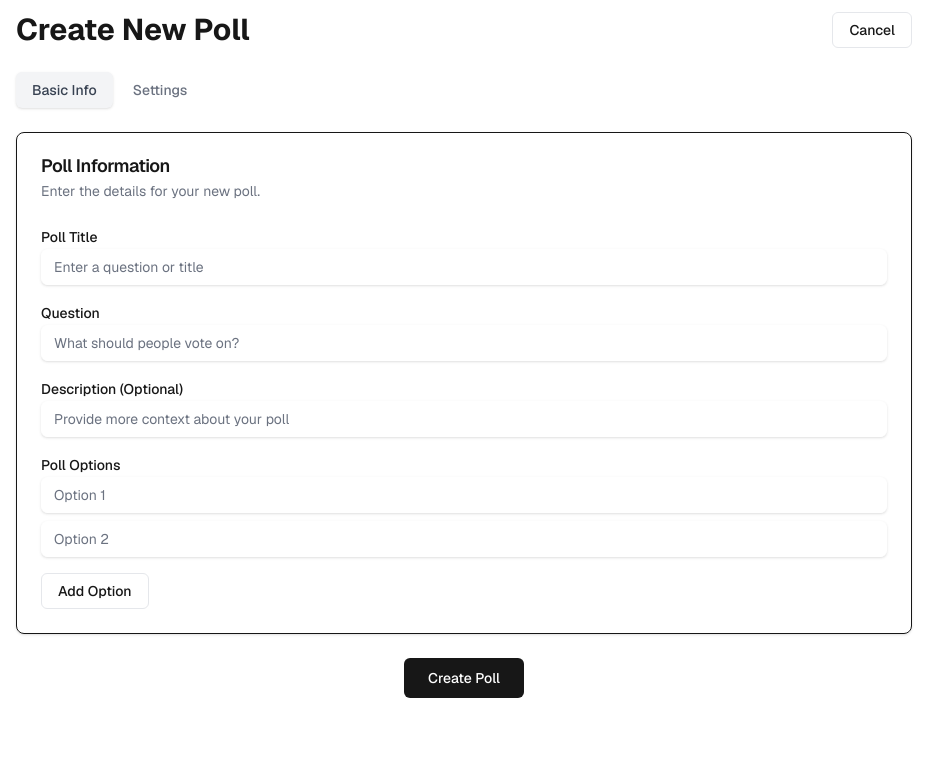
Test case: PollForm › allows removing a poll option when there are more than two
What coordinates should you click on to do the following:
click the button "Add Option"
I would click on:
 (95, 591)
Its box is [41,573,149,609].
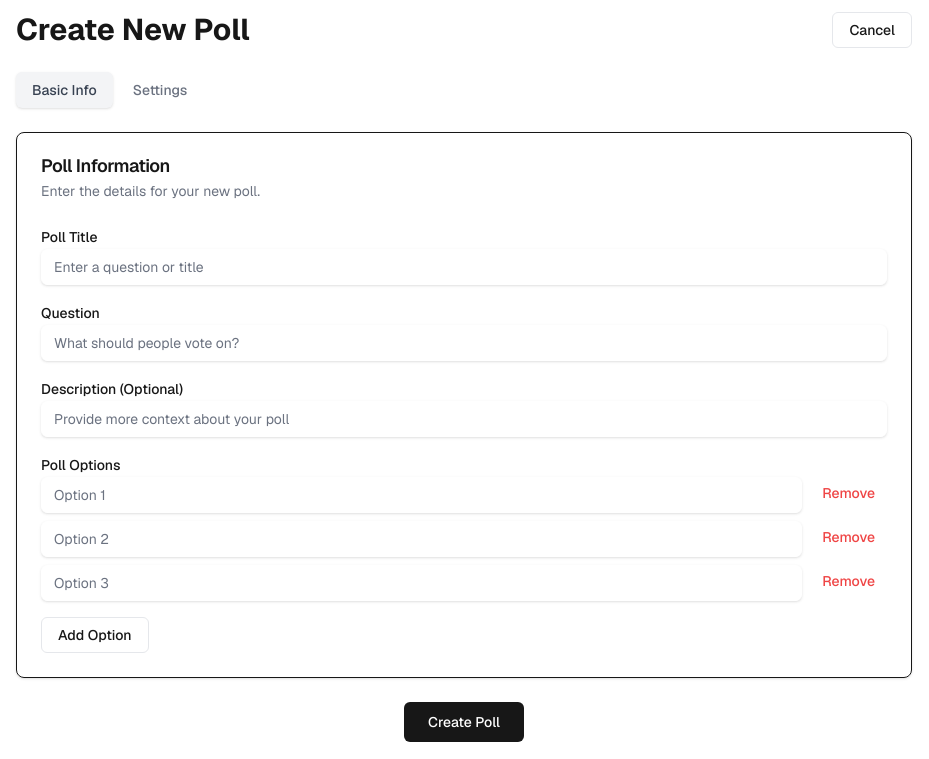
Result: the number of buttons "Remove" is 3
What coordinates should you click on to do the following:
click the 1st button "Remove"
I would click on:
 (849, 493)
Its box is [810,477,887,509].
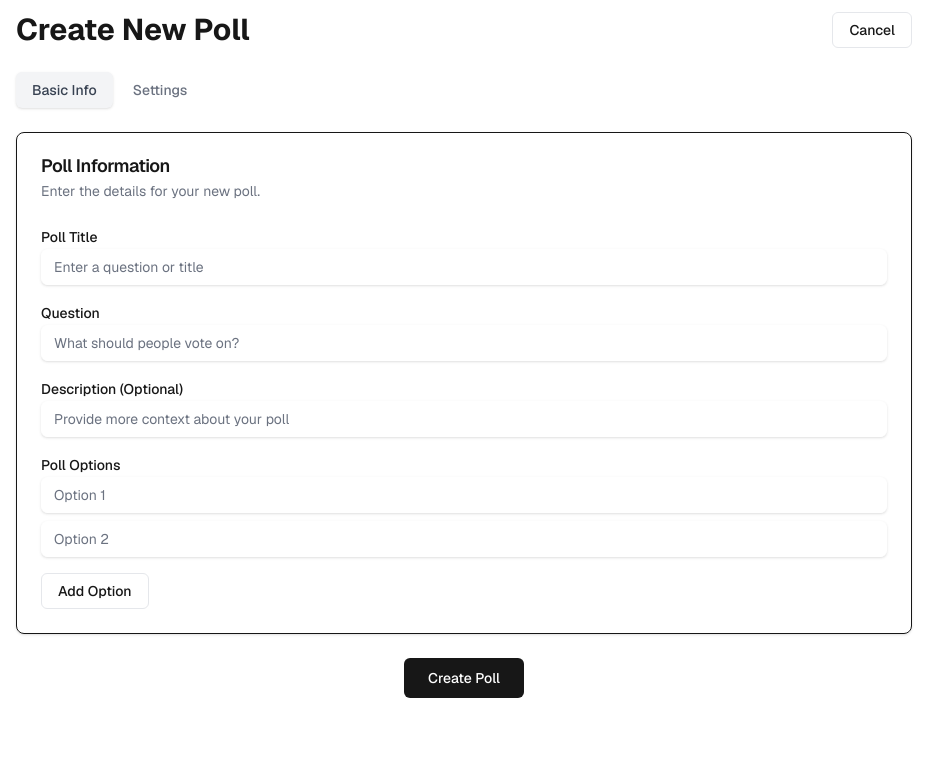
Result: the number of fields with placeholder "Option 1" is 2 at [41,477,887,513]; [41,521,887,557]
